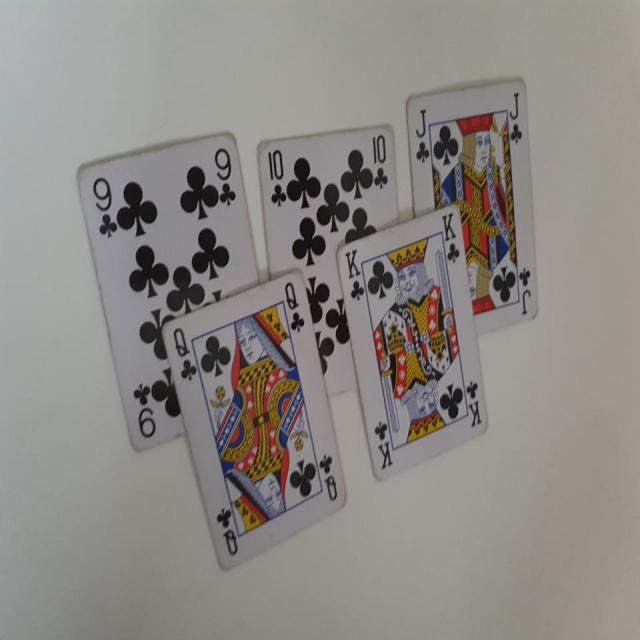10 Trefoils: (254, 122, 398, 392)
9 Trefoils: (75, 130, 258, 458)
J Trefoils: (405, 74, 540, 336)
K Trefoils: (335, 203, 490, 482)
Q Trefoils: (159, 266, 348, 570)
